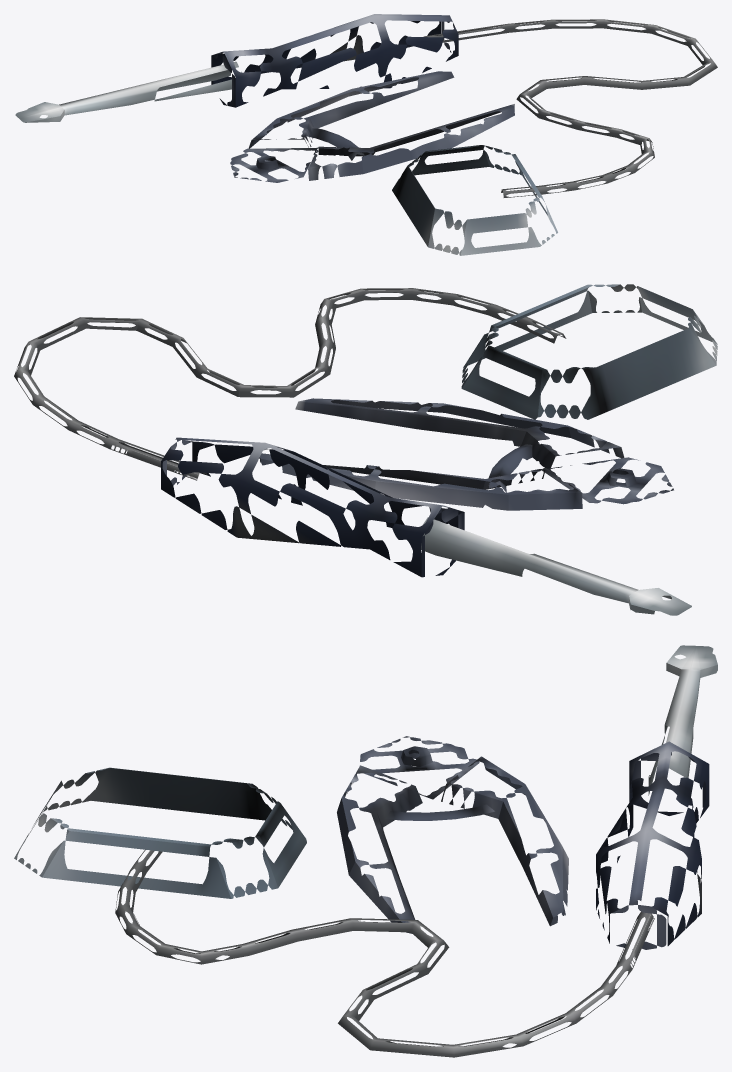
Rendered from electric_tools.FBX.
3 renders of one model, top to bottom at view 1: azimuth 30°, elevation 25°; view 2: azimuth 150°, elevation 25°; view 3: azimuth 270°, elevation 25°, orthographic. The views are drawn at different scales.
Visible parts, largest first — view 1: Box02; view 2: Box02; view 3: Box02.
Part boxes in pixels (bbox=[...]): Box02: bbox=[15, 14, 717, 255]; Box02: bbox=[14, 284, 717, 615]; Box02: bbox=[14, 645, 717, 1057].
Bounding box in the file's own units: 448 × 330 × 44.18.
